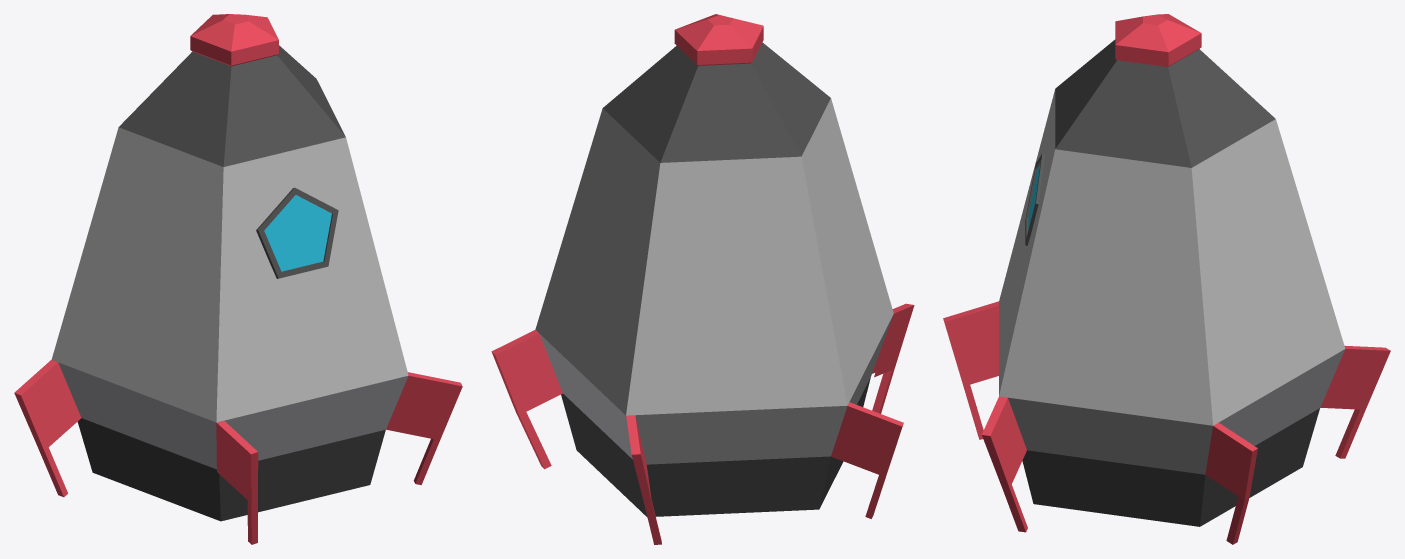
The model's file is Rocket9.fbx.
The picture shows the model from 3 angles, left to right: view 1: azimuth 30°, elevation 25°; view 2: azimuth 150°, elevation 25°; view 3: azimuth 270°, elevation 25°; orthographic projection.
Visible parts, largest first — view 1: GemiColored; view 2: GemiColored; view 3: GemiColored.
Part boxes in pixels (bbox=[...]): GemiColored: bbox=[14, 14, 462, 544]; GemiColored: bbox=[491, 14, 914, 544]; GemiColored: bbox=[943, 14, 1390, 544].
Bounding box in the file's own units: 89.94 × 101 × 90.24.
